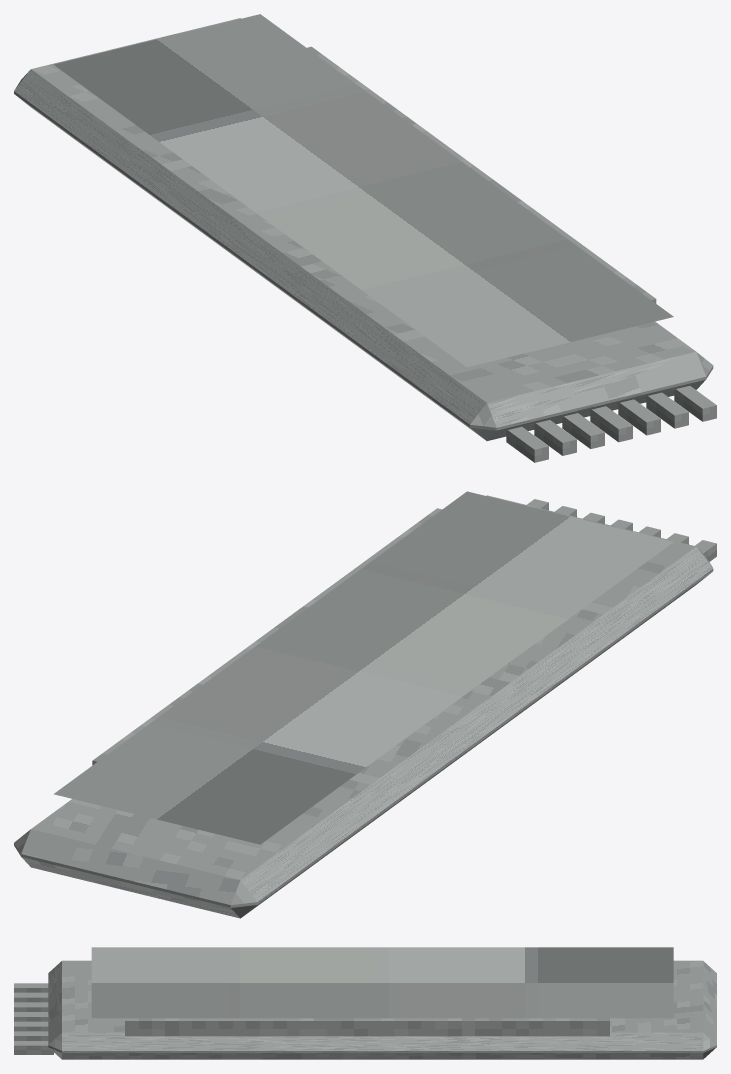
File: long_patchwork_scarf_loose.glb
The picture shows the model from 3 angles, top to bottom: view 1: azimuth 30°, elevation 25°; view 2: azimuth 150°, elevation 25°; view 3: azimuth 270°, elevation 25°; orthographic projection. The views are drawn at different scales.
Visible parts, largest first — view 1: block_stitched cloth panels, block_loose folded scarf, block_fringe (×7), block_overlapping fold; view 2: block_stitched cloth panels, block_loose folded scarf, block_overlapping fold; view 3: block_stitched cloth panels, block_loose folded scarf, block_overlapping fold, block_fringe (×7).
Boxes of the visible parts, left/top/right/bottom form: block_stitched cloth panels: left=53, top=14, right=673, bottom=367; block_loose folded scarf: left=14, top=18, right=713, bottom=440; block_fringe (×7): left=506, top=385, right=716, bottom=462; block_overlapping fold: left=307, top=46, right=656, bottom=303; block_stitched cloth panels: left=53, top=491, right=673, bottom=844; block_loose folded scarf: left=14, top=495, right=713, bottom=918; block_overlapping fold: left=92, top=508, right=441, bottom=765; block_stitched cloth panels: left=91, top=947, right=673, bottom=1018; block_loose folded scarf: left=48, top=960, right=716, bottom=1059; block_overlapping fold: left=125, top=1018, right=609, bottom=1036; block_fringe (×7): left=14, top=983, right=53, bottom=1054.
Bounding box in the file's own units: 0.0743 × 0.0169 × 0.264.
1 material, 1 textured.
